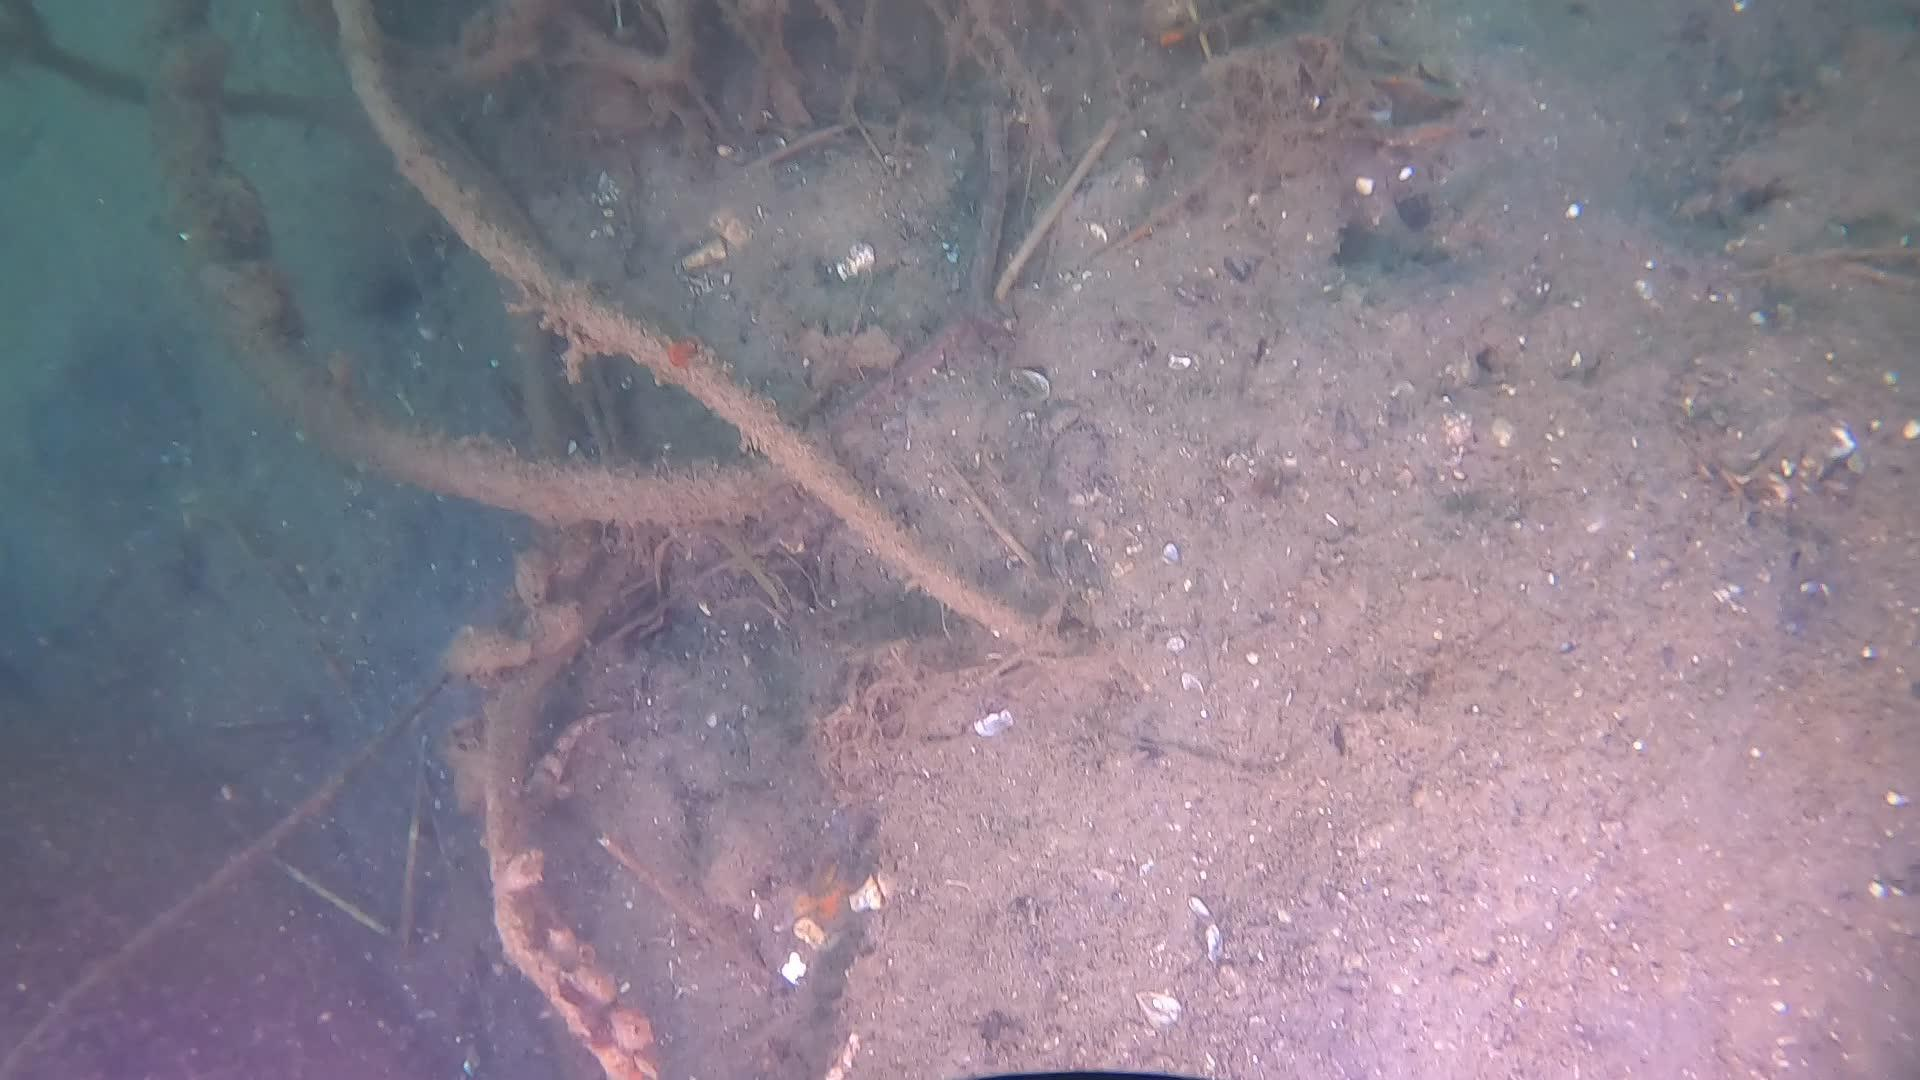bundle of ropes: (0, 0, 1069, 1073)
